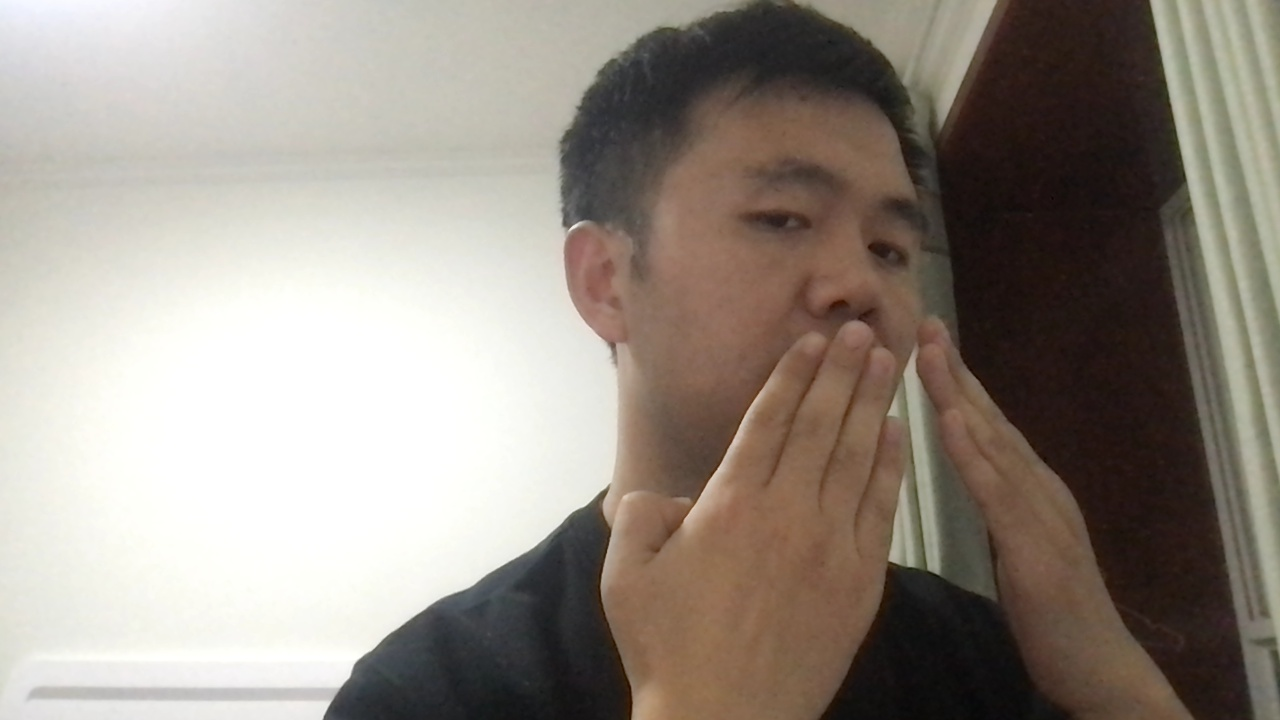thanks: (602, 323, 1188, 692)
